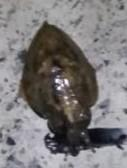Cephalopod: (19, 21, 98, 157)
